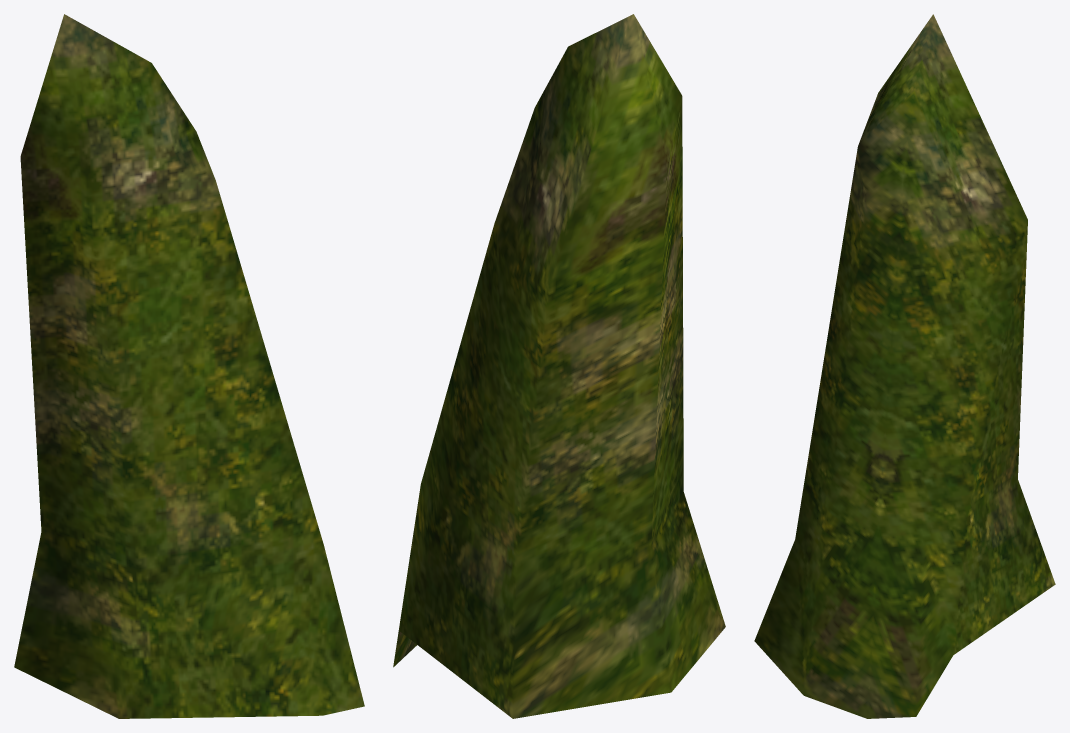
File: OVERHILL_A_01_ROCK27.fbx
3 views of the same model, side by side, from view 1: azimuth 30°, elevation 25°; view 2: azimuth 150°, elevation 25°; view 3: azimuth 270°, elevation 25° (orthographic). The views are drawn at different scales.
Visible parts, largest first — view 1: OVERHILL_A_01_ROCK27; view 2: OVERHILL_A_01_ROCK27; view 3: OVERHILL_A_01_ROCK27.
Boxes of the visible parts, x1,y1,x2,y2 form: OVERHILL_A_01_ROCK27: [14, 14, 364, 718]; OVERHILL_A_01_ROCK27: [393, 14, 725, 718]; OVERHILL_A_01_ROCK27: [754, 14, 1055, 718].
Bounding box in the file's own units: 9036 × 20762 × 9434.
Materials: 1 (1 with a texture image).
